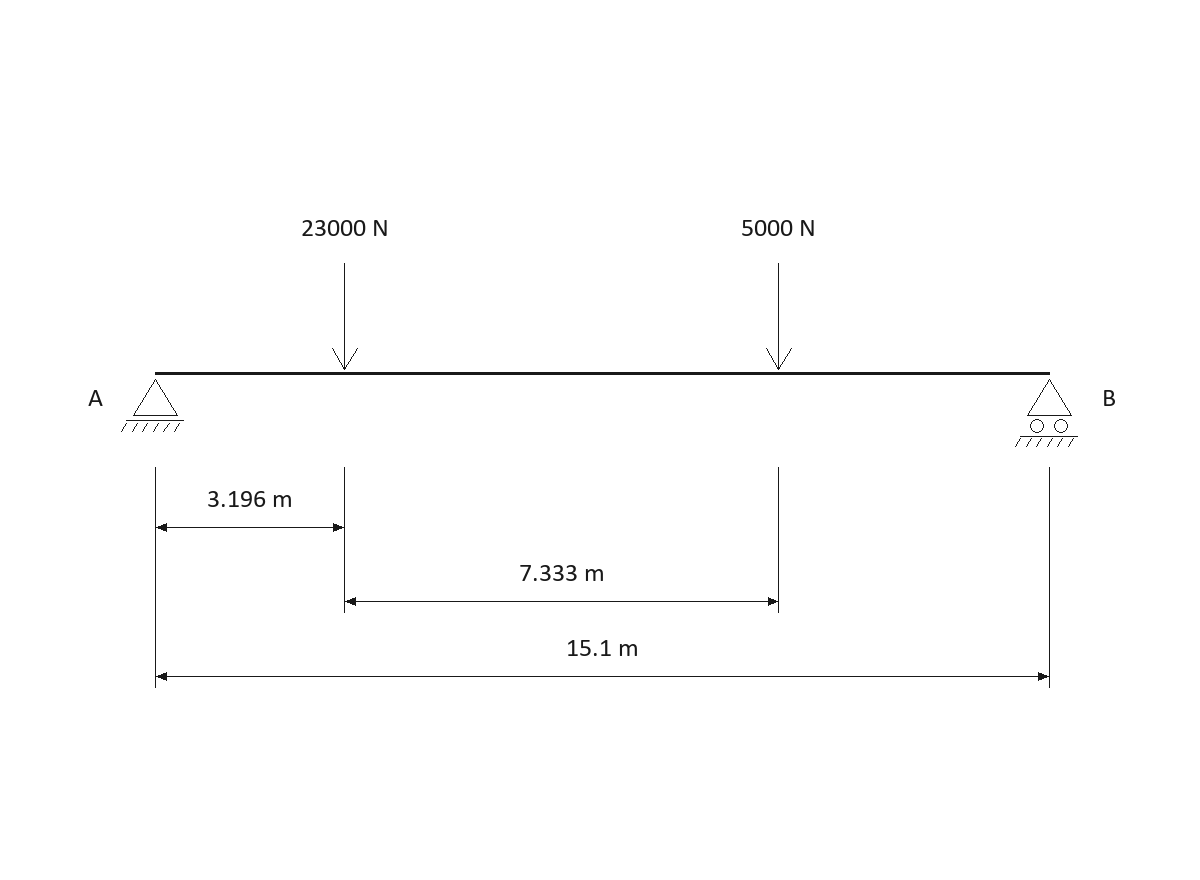pin_support: (121, 379, 184, 432)
point_load: (332, 263, 358, 370), (766, 263, 792, 370)
roller_support: (1015, 379, 1078, 447)
